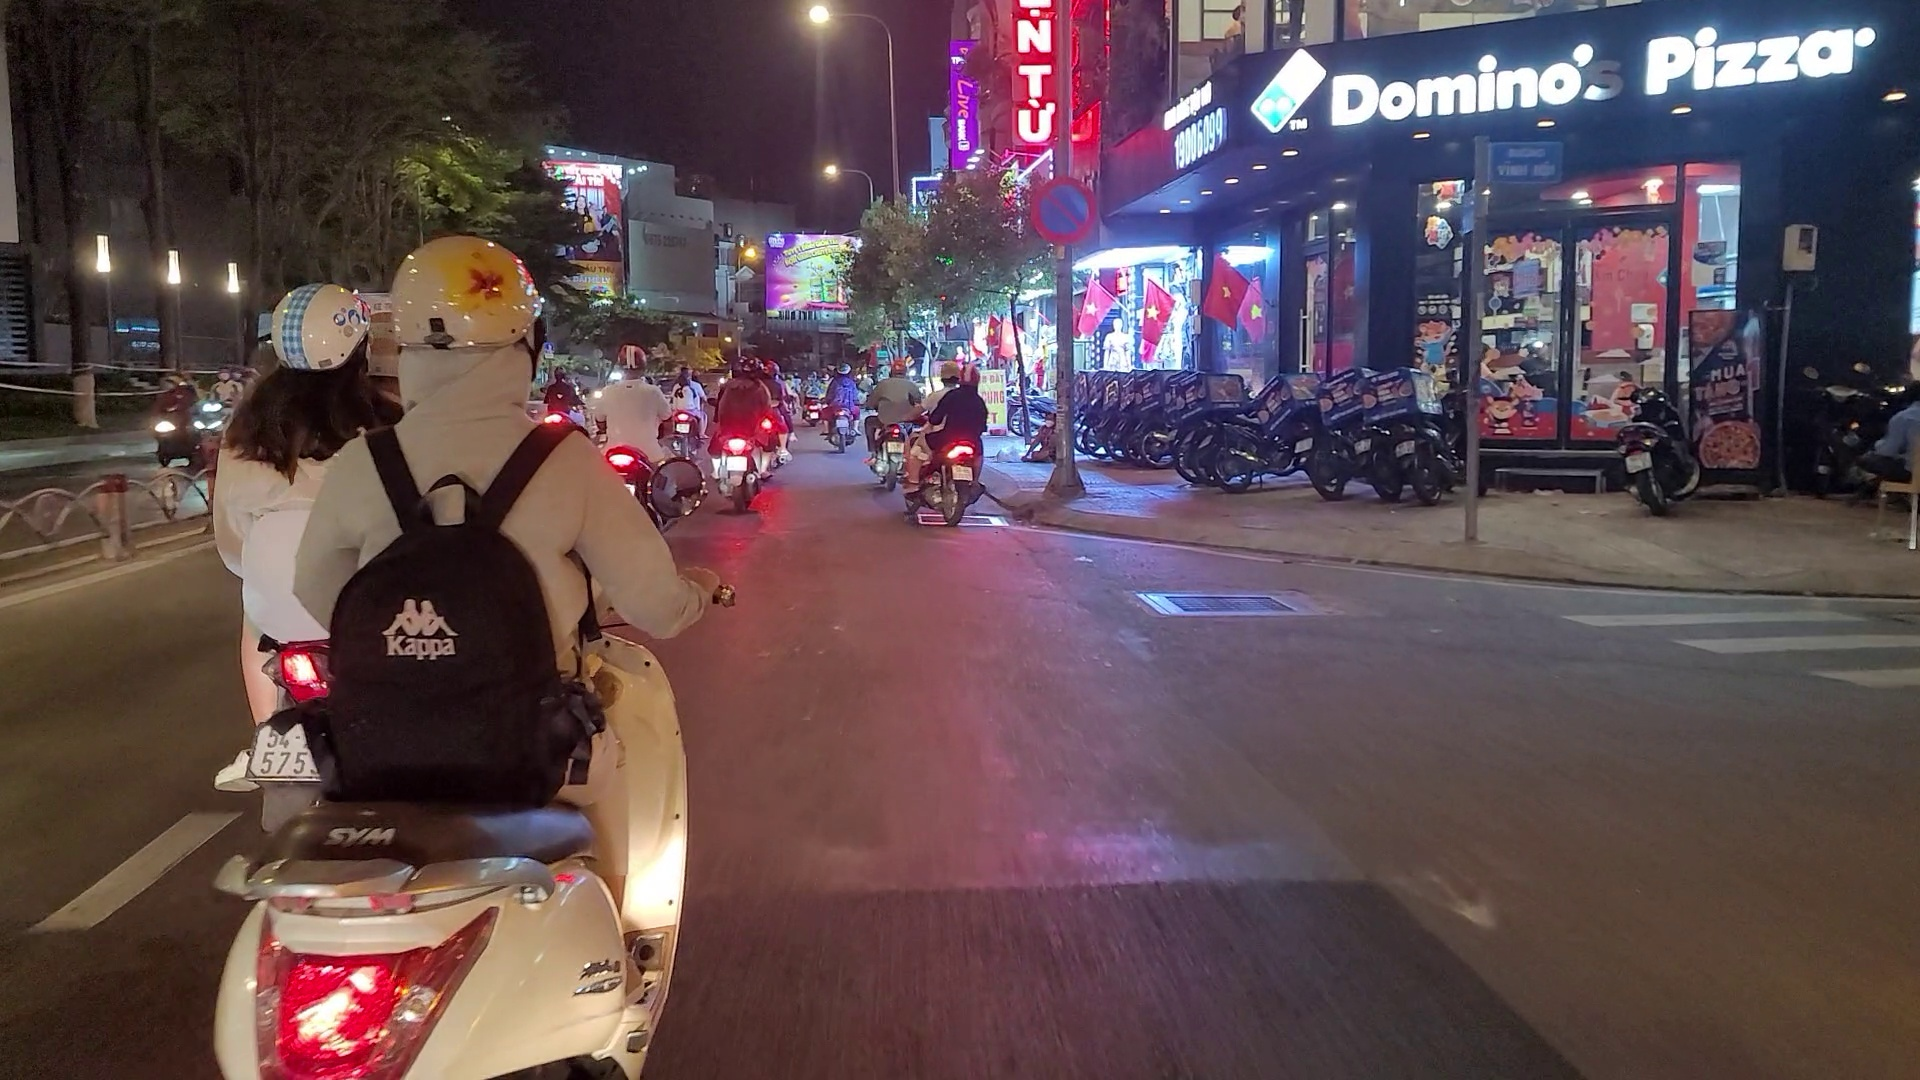Cam do xe: (1029, 171, 1098, 245)
